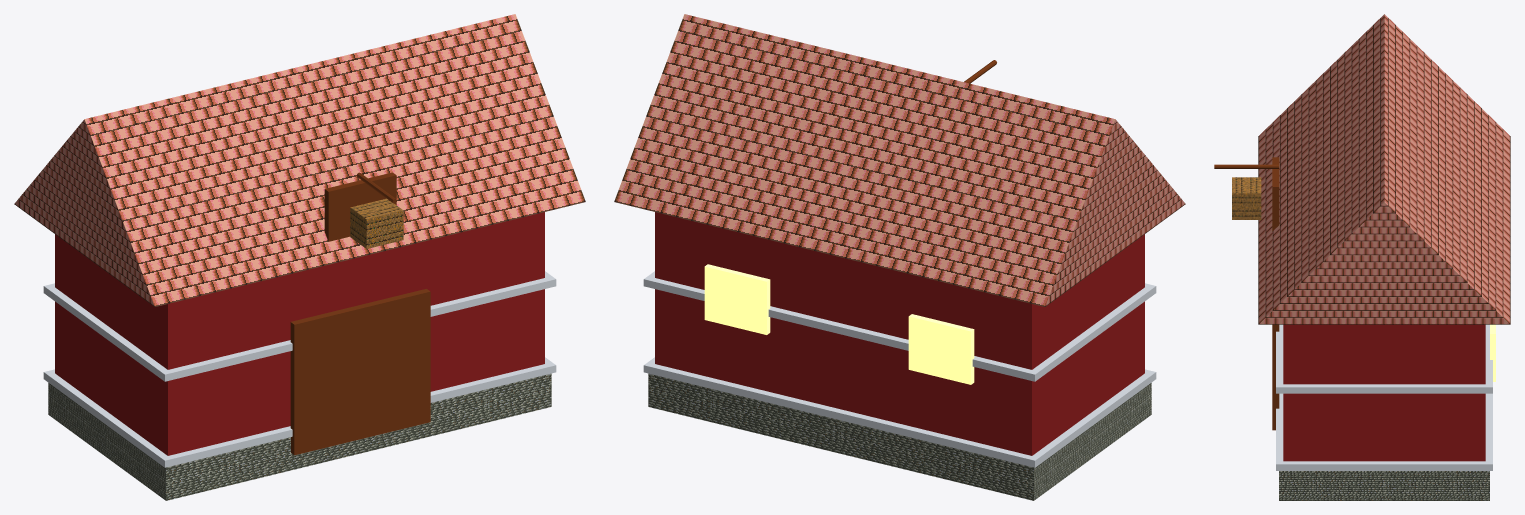
Rendered from granero.glb.
3 views of the same model, side by side, from view 1: azimuth 30°, elevation 25°; view 2: azimuth 150°, elevation 25°; view 3: azimuth 270°, elevation 25° (orthographic). The views are drawn at different scales.
Parts seen in each view (by area): view 1: Granero_Techo, Cube.001, Cube.005, Cube, Cube.002, Cube.003, Cube.006, Cube.007; view 2: Granero_Techo, Cube.001, Cube, Cube.002, Cube.003, Cube.008, Cube.009; view 3: Granero_Techo, Cube.001, Cube, Cube.002, Cube.003, Cube.007, Cube.006, Cube.005.
Boxes of the visible parts, x1,y1,x2,y2 form: Granero_Techo: [14, 14, 585, 306]; Cube.001: [55, 212, 544, 455]; Cube.005: [290, 289, 430, 455]; Cube: [48, 373, 551, 500]; Cube.002: [43, 357, 556, 467]; Cube.003: [43, 271, 556, 381]; Cube.006: [324, 172, 396, 241]; Cube.007: [350, 198, 403, 248]; Granero_Techo: [614, 14, 1185, 306]; Cube.001: [655, 212, 1144, 455]; Cube: [648, 373, 1151, 500]; Cube.002: [643, 357, 1156, 467]; Cube.003: [643, 271, 1156, 381]; Cube.008: [908, 314, 974, 384]; Cube.009: [704, 264, 770, 334]; Granero_Techo: [1258, 14, 1510, 324]; Cube.001: [1283, 324, 1485, 461]; Cube: [1279, 471, 1489, 500]; Cube.002: [1276, 393, 1492, 470]; Cube.003: [1276, 324, 1492, 393]; Cube.007: [1232, 177, 1261, 219]; Cube.006: [1272, 157, 1279, 231]; Cube.005: [1272, 324, 1279, 430].
Size of the model in its own units: 7.6 by 5.8 by 5.05.
7 materials, 3 textured.
